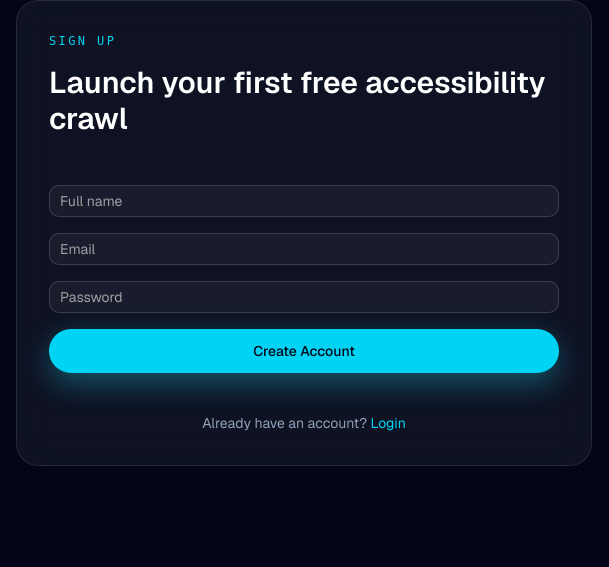
Test: SignupForm › shows validation errors when fields are empty
Click the button "Create Account": (304, 351) [49, 329, 559, 373]
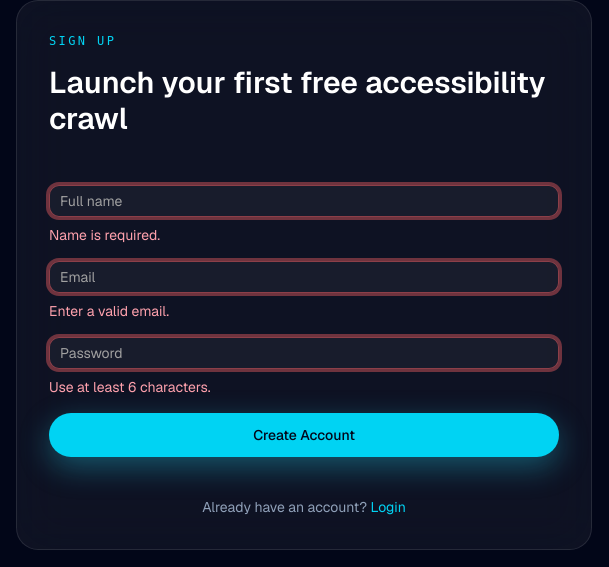
Check: the text "Use at least 6 characters." is shown, box [49, 378, 210, 396]
Check: the text "Name is required." is shown, box [49, 226, 160, 244]
Check: the text "Enter a valid email." is shown, box [49, 302, 169, 320]
